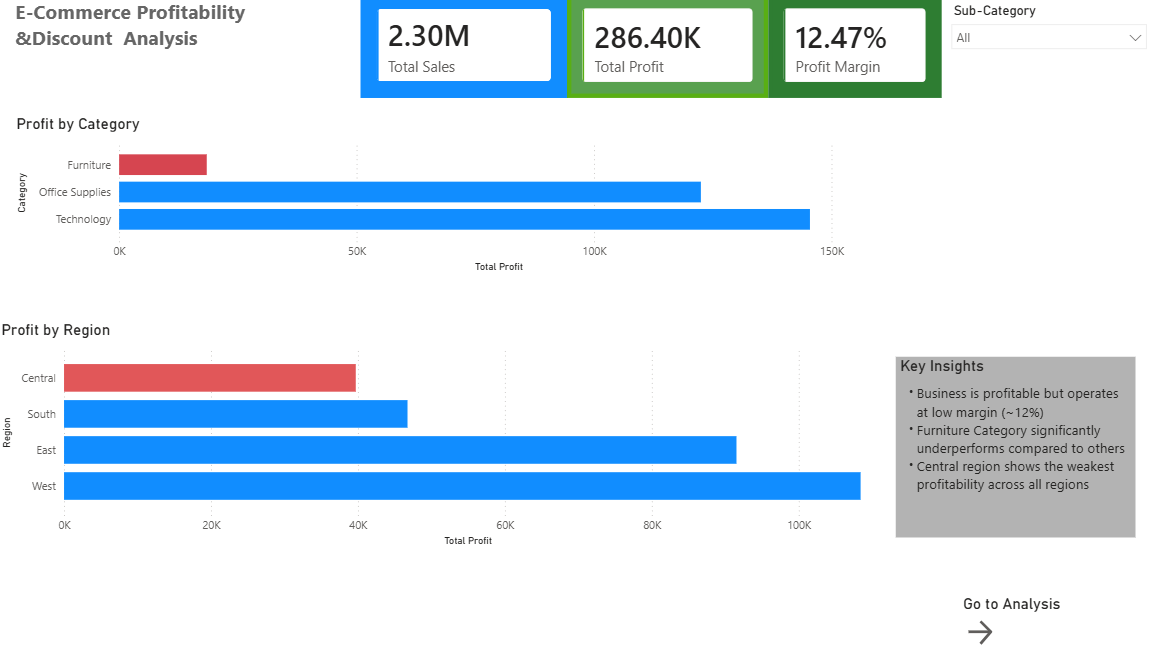

This screenshot's page, from the dashboard's own definition file:
{"tool":"powerbi","page":{"name":"E-Commerce Performance Overview","canvas":[1280,720],"ordinal":0},"visuals":[{"type":"cardVisual","fields":{"Data":["Sample - Superstore.Total Sales"]},"box":[399,0,227,115],"z":0},{"type":"cardVisual","fields":{"Data":["Sample - Superstore.Total Profit"]},"box":[626,0,221,115],"z":1000},{"type":"cardVisual","fields":{"Data":["Sample - Superstore.Profit Margin"]},"box":[847,0,190,115],"z":2000},{"type":"textbox","box":[15.6,0,321,72],"z":3000},{"type":"clusteredBarChart","title":" Profit by Category","fields":{"Category":["Sample - Superstore.Category"],"Y":["Sample - Superstore.Total Profit"]},"box":[16,133,971,179],"z":4000},{"type":"clusteredBarChart","title":"Profit by Region","fields":{"Category":["Sample - Superstore.Region"],"Y":["Sample - Superstore.Total Profit"]},"box":[0,360,980,253],"z":5000},{"type":"slicer","title":"select sub category","fields":{"Values":["Sample - Superstore.Sub-Category"]},"box":[1037,6,235,306],"z":6000},{"type":"actionButton","title":"Go to Analysis","box":[1060.2,659.5,219.8,60.3],"z":7000},{"type":"textbox","title":"Key Insights","box":[987,400,263,198],"z":8000}]}

Visuals, with their boxes in screenshot pixels (x1, y1, x2, y2), scaled from the page's 1280x720 canvas onto the 1159x648 screenshot:
cardVisual - Sample - Superstore.Total Sales: 361, 0, 567, 104
cardVisual - Sample - Superstore.Total Profit: 567, 0, 767, 104
cardVisual - Sample - Superstore.Profit Margin: 767, 0, 939, 104
textbox: 14, 0, 305, 65
" Profit by Category" clusteredBarChart: 14, 120, 894, 281
"Profit by Region" clusteredBarChart: 0, 324, 887, 552
"select sub category" slicer: 939, 5, 1152, 281
"Go to Analysis" actionButton: 960, 594, 1158, 647
"Key Insights" textbox: 894, 360, 1132, 538
